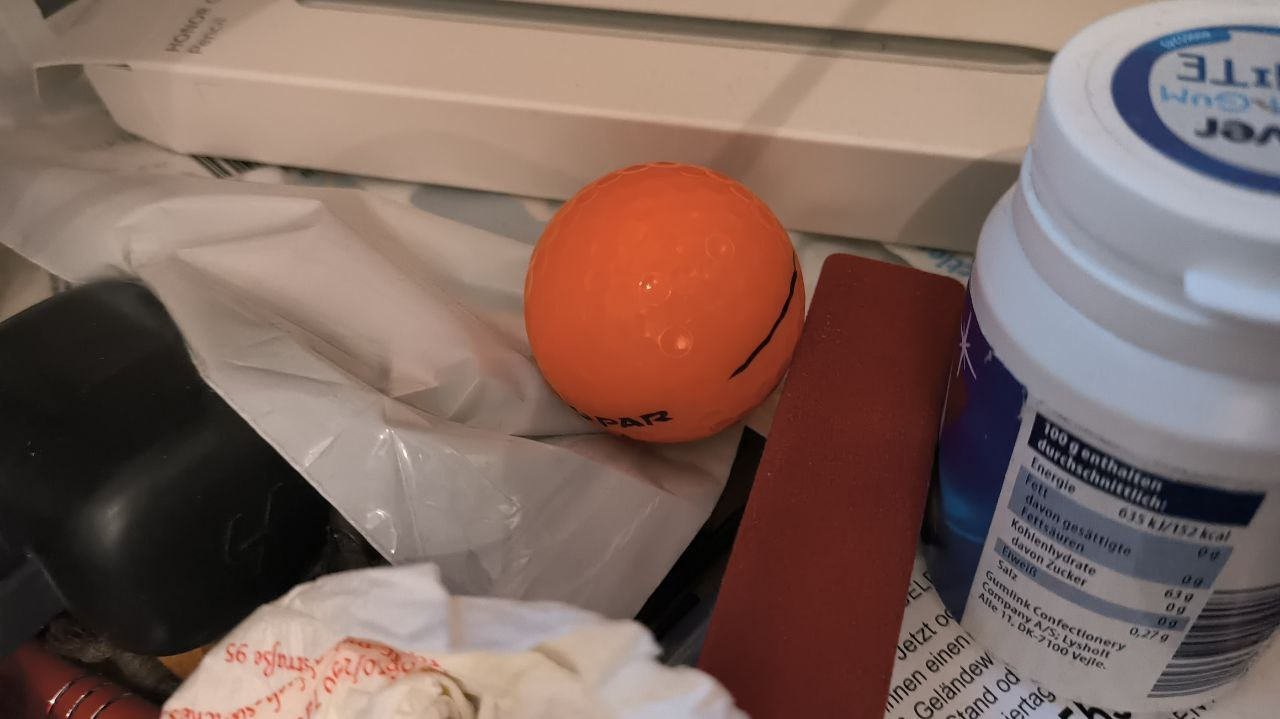orange_ball: (522, 160, 807, 444)
